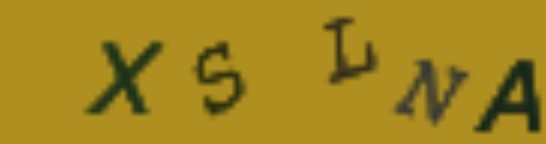A: (472, 53, 546, 136)
L: (322, 15, 380, 84)
N: (393, 59, 471, 127)
S: (191, 38, 247, 116)
X: (79, 36, 169, 121)
